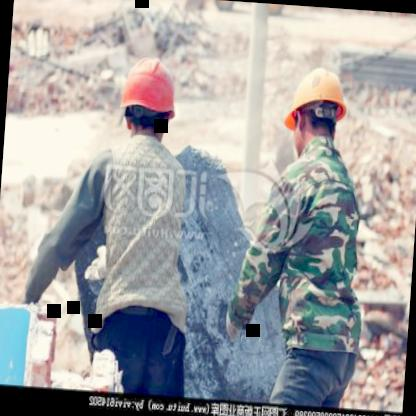helmet: (275, 58, 357, 169), (108, 50, 186, 154)
